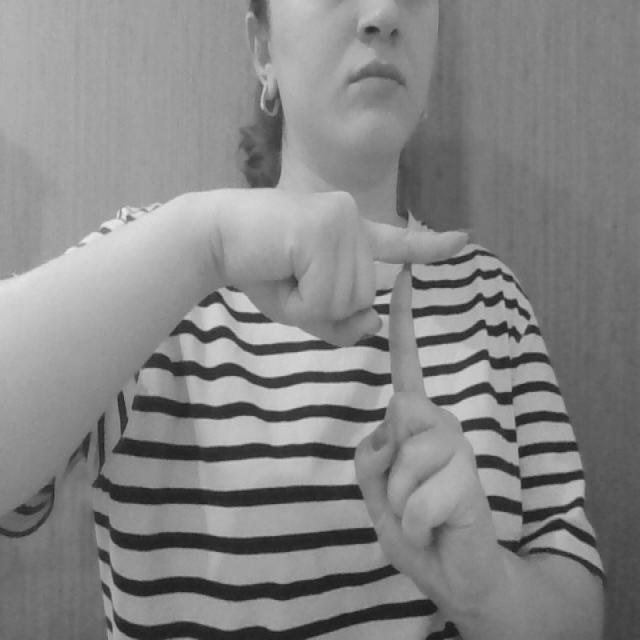Tesekkurler: (344, 198, 474, 444)
